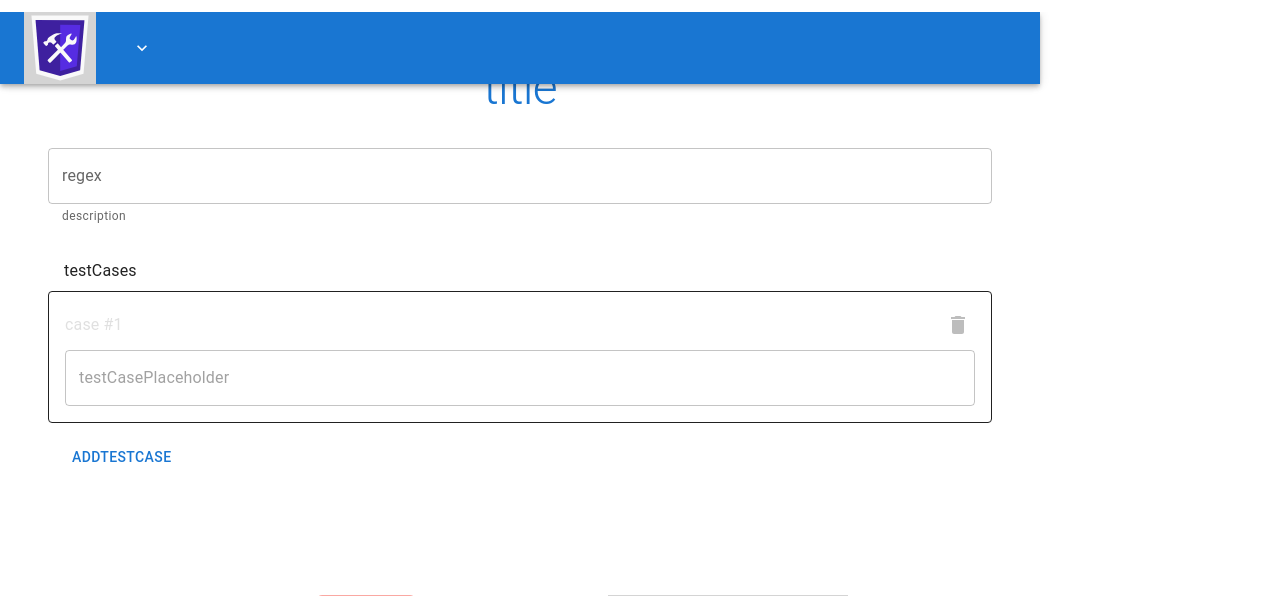
Scenario: Regex Tester › can match a regular expression
The image size is (1280, 596).
In the field labelled "regex": (520, 176) [48,148,992,204], type "\\d+"
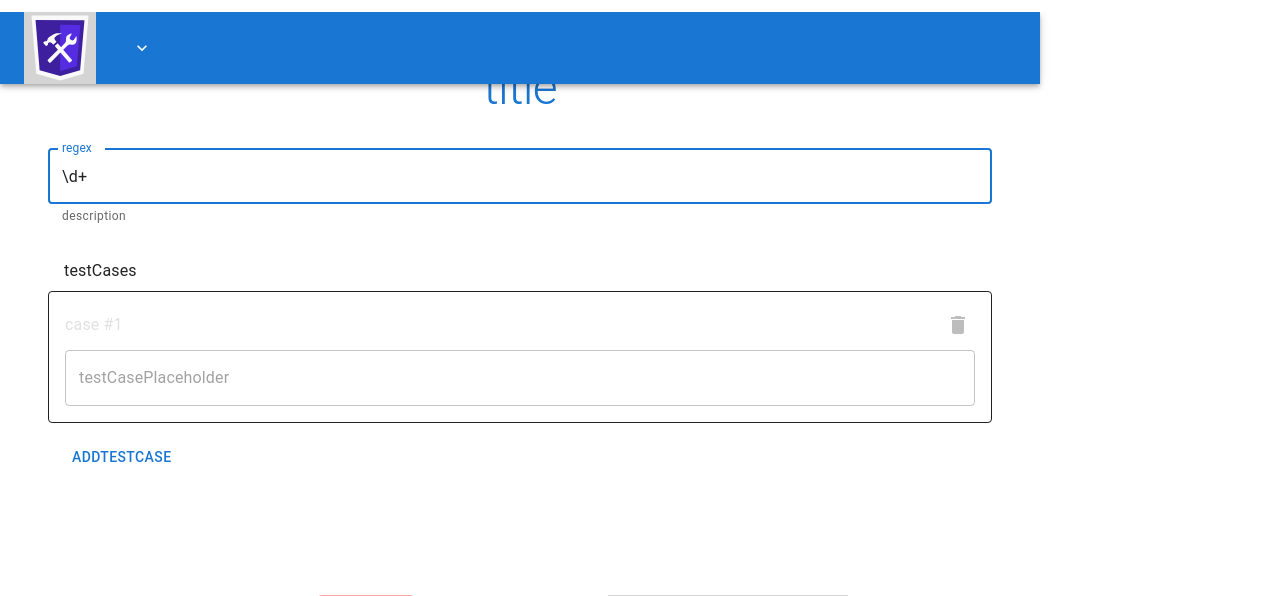
In the element with test id "editor-latitude": (520, 378) [65,350,975,406], type "abc123"
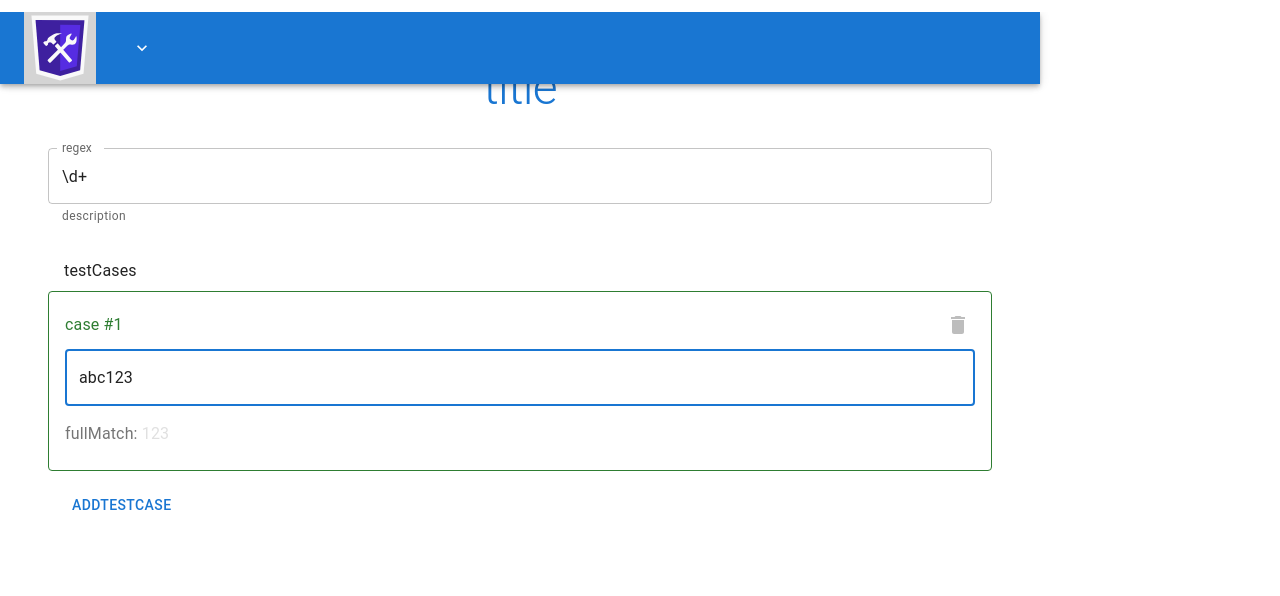
expect the element with test id "match-result" reads "fullMatch: 123": met, box [65,424,169,443]
